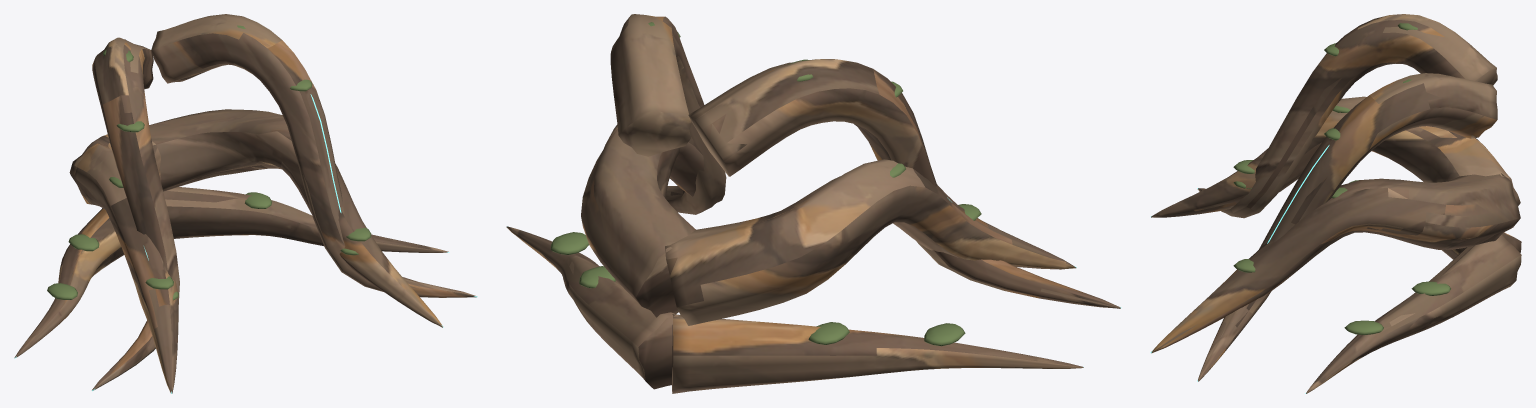
Rendered from SM_RB_GrippingRoots.fbx.
3 renders of one model, left to right at view 1: azimuth 30°, elevation 25°; view 2: azimuth 150°, elevation 25°; view 3: azimuth 270°, elevation 25°, orthographic. The views are drawn at different scales.
Parts seen in each view (by area): view 1: SM_RB_GrippingRoots; view 2: SM_RB_GrippingRoots; view 3: SM_RB_GrippingRoots.
Part boxes in pixels (box(x1,y1,x2,y2)): SM_RB_GrippingRoots: box(14, 14, 477, 393); SM_RB_GrippingRoots: box(506, 14, 1121, 393); SM_RB_GrippingRoots: box(1150, 14, 1521, 393).
Size of the model in its own units: 17.63 by 12.7 by 9.03.
